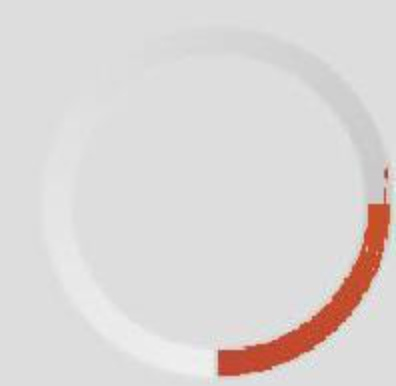ProgressBar: (1, 1, 395, 385)
